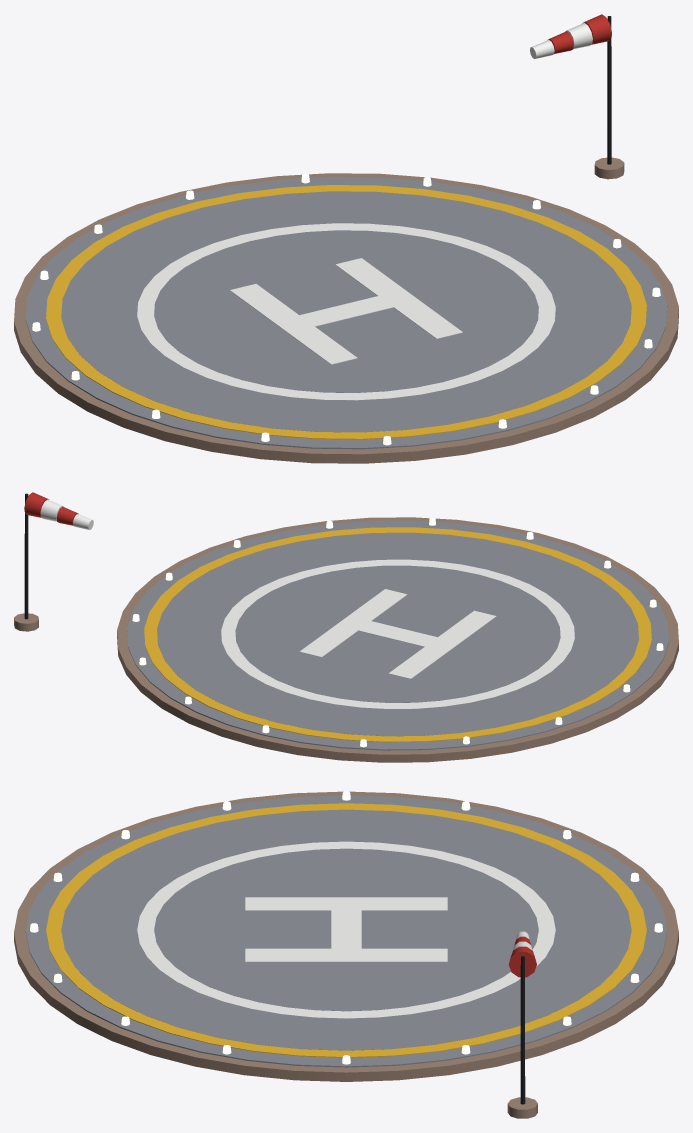
Rendered from helipad.fbx.
3 views of the same model, one above another, from view 1: azimuth 30°, elevation 25°; view 2: azimuth 150°, elevation 25°; view 3: azimuth 270°, elevation 25° (orthographic). The views are drawn at different scales.
Parts seen in each view (by area): view 1: helipad; view 2: helipad; view 3: helipad.
Part boxes in pixels (x1,y1,x2,y2): helipad: (14,14,678,463); helipad: (14,492,678,762); helipad: (14,791,678,1118).
Bounding box in the file's own units: 22.28 × 5.17 × 19.7.
